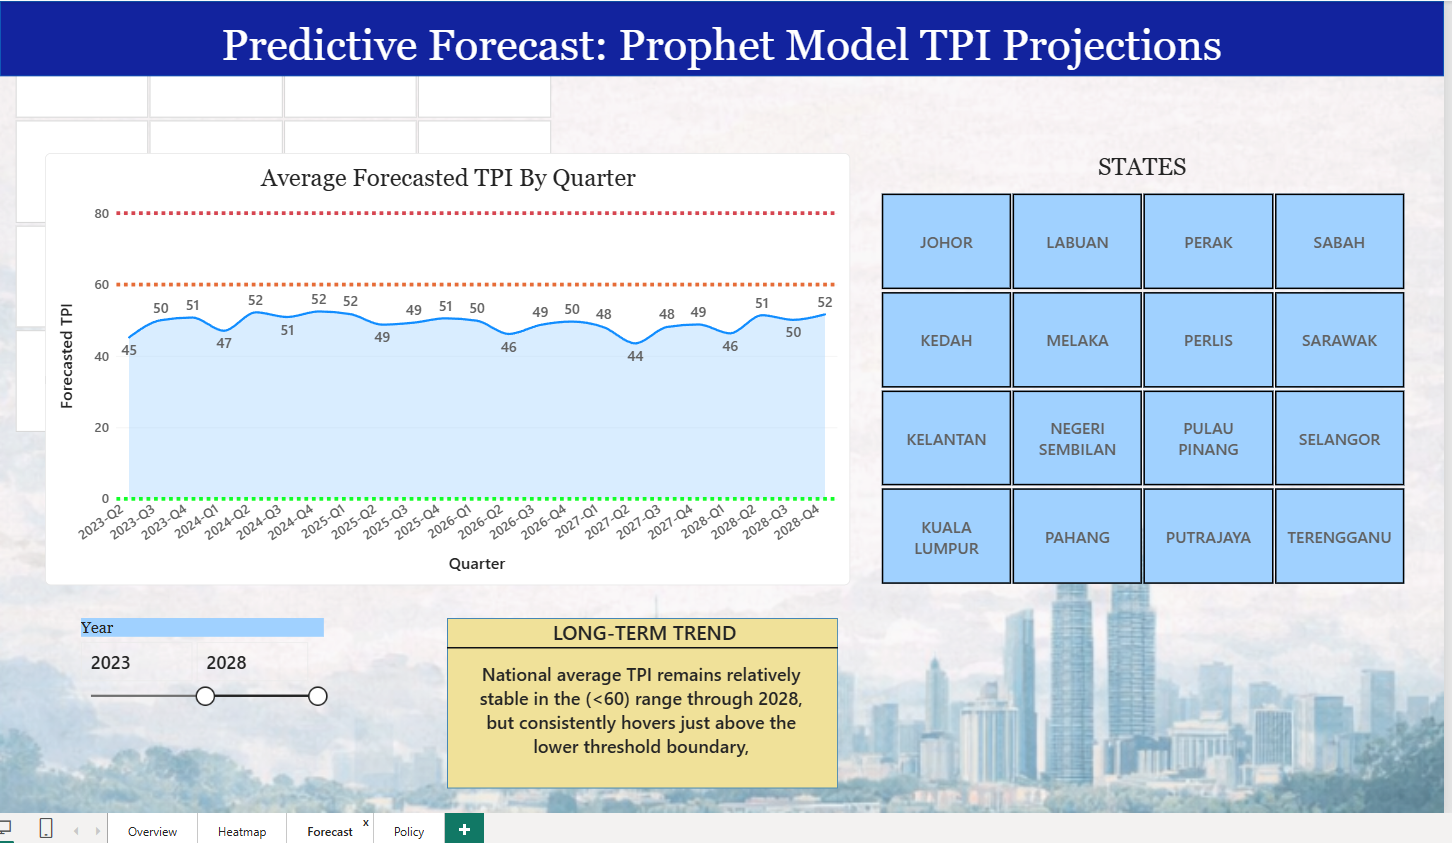

The dashboard page shown, as its layout file describes it:
{"tool":"powerbi","page":{"name":"Forecast","canvas":[1920,1080],"ordinal":2},"visuals":[{"type":"slicer","fields":{"Values":["Fact_Forecast_TPI.state"]},"box":[0,0,751.6,575],"z":0},{"type":"lineChart","title":"Average Forecasted TPI By Quarter","fields":{"Category":["Dim_Calendar.quarter_label"],"Y":["Fact_Forecast_TPI.Avg Forecast TPI"]},"box":[59.6,202.8,1071.3,575],"z":1000},{"type":"textbox","box":[1789.6,1001.7,130.9,78.3],"z":2000},{"type":"slicer","fields":{"Values":["Dim_Calendar.year"]},"box":[100.2,820.8,338.8,202.8],"z":3000},{"type":"shape","box":[0,0,1920.7,100.2],"z":4000},{"type":"textbox","box":[124.1,23.9,1672.5,76.3],"z":5000},{"type":"slicer","title":"STATES","fields":{"Values":["Fact_Forecast_TPI.state"]},"box":[1152.4,202.8,734.9,575],"z":6000},{"type":"shape","title":"hh","box":[594.1,820.8,520.1,226.7],"z":6001},{"type":"textbox","box":[634.7,878,436.6,202.8],"z":6003},{"type":"textbox","box":[734.9,820.8,286.3,40.6],"z":6004},{"type":"shape","box":[594.1,799.3,520.1,121.7],"z":6005}]}

Visuals, with their boxes on the page's 1920x1080 design canvas (x1, y1, x2, y2). These are canvas units, not pixel positions in the 1452x843 screenshot, which may show the page scaled, cropped or inside an application window:
slicer - Fact_Forecast_TPI.state: 0 0 752 575
"Average Forecasted TPI By Quarter" lineChart: 60 203 1131 778
textbox: 1790 1002 1920 1080
slicer - Dim_Calendar.year: 100 821 439 1024
shape: 0 0 1921 100
textbox: 124 24 1797 100
"STATES" slicer: 1152 203 1887 778
"hh" shape: 594 821 1114 1048
textbox: 635 878 1071 1081
textbox: 735 821 1021 861
shape: 594 799 1114 921
